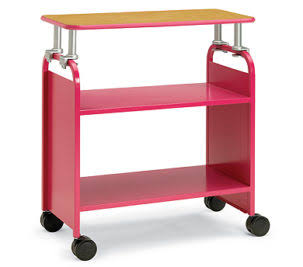Carts: (40, 7, 274, 260)
